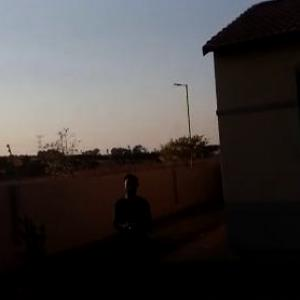follow: (110, 172, 161, 299)
